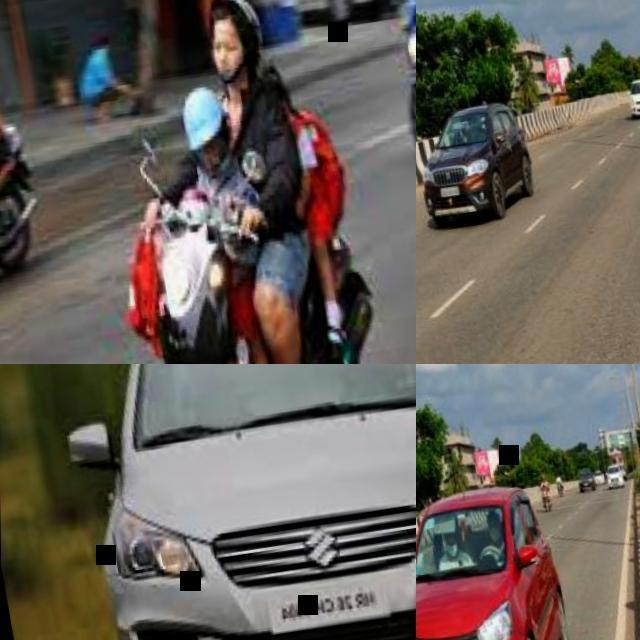car: (128, 14, 367, 362), (416, 485, 562, 639), (416, 106, 535, 227)
